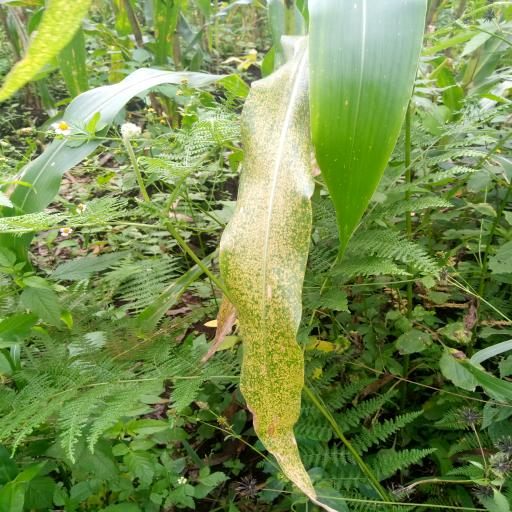Corn_Brown_Spots: (212, 34, 345, 512)
